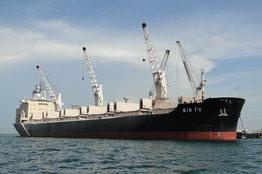Cargoship: (10, 22, 249, 140)
